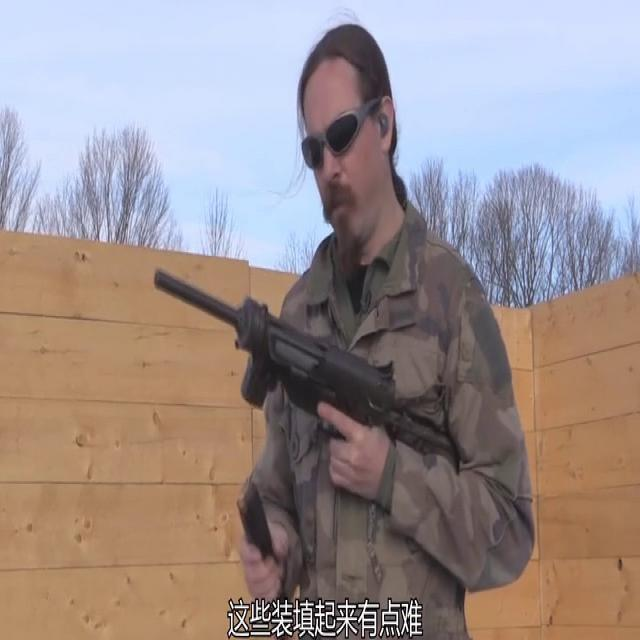gun-knife-thesis - v11 Yolov5 augmented: (140, 236, 498, 612)
